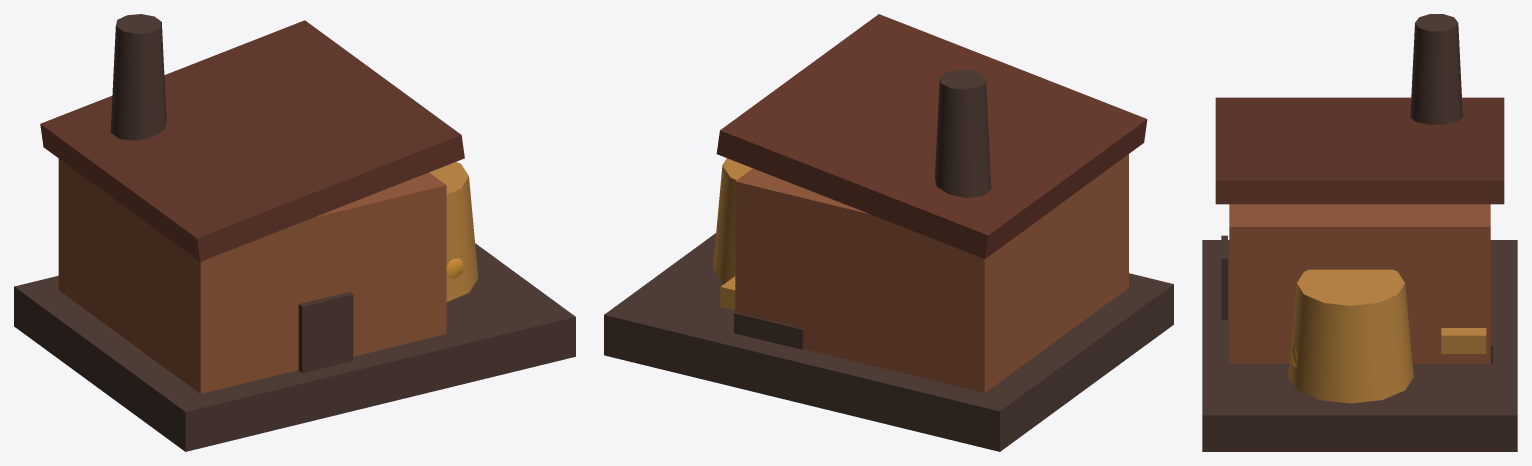
The model's file is canyon_forge.glb.
3 renders of one model, left to right at view 1: azimuth 30°, elevation 25°; view 2: azimuth 150°, elevation 25°; view 3: azimuth 270°, elevation 25°, orthographic. The views are drawn at different scales.
Parts seen in each view (by area): view 1: roof, main_hall, foundation, chimney, door, furnace; view 2: main_hall, roof, foundation, chimney, furnace, anvil_base; view 3: foundation, main_hall, roof, furnace, chimney, anvil_top, door.
Part boxes in pixels (x1=…): roof: x1=40, y1=20, x2=464, y2=261; main_hall: x1=58, y1=158, x2=446, y2=393; foundation: x1=14, y1=243, x2=575, y2=451; chimney: x1=110, y1=14, x2=166, y2=140; door: x1=298, y1=291, x2=353, y2=373; furnace: x1=429, y1=162, x2=478, y2=301; main_hall: x1=735, y1=154, x2=1128, y2=392; roof: x1=716, y1=14, x2=1147, y2=258; foundation: x1=604, y1=233, x2=1173, y2=451; chimney: x1=934, y1=69, x2=991, y2=197; furnace: x1=713, y1=158, x2=752, y2=283; anvil_base: x1=734, y1=312, x2=803, y2=349; foundation: x1=1202, y1=240, x2=1517, y2=451; main_hall: x1=1229, y1=204, x2=1490, y2=363; roof: x1=1215, y1=97, x2=1504, y2=204; furnace: x1=1288, y1=269, x2=1413, y2=403; chimney: x1=1410, y1=14, x2=1462, y2=124; anvil_top: x1=1441, y1=328, x2=1486, y2=353; door: x1=1221, y1=235, x2=1227, y2=319.
Size of the model in its own units: 9.2 by 7.1 by 7.
